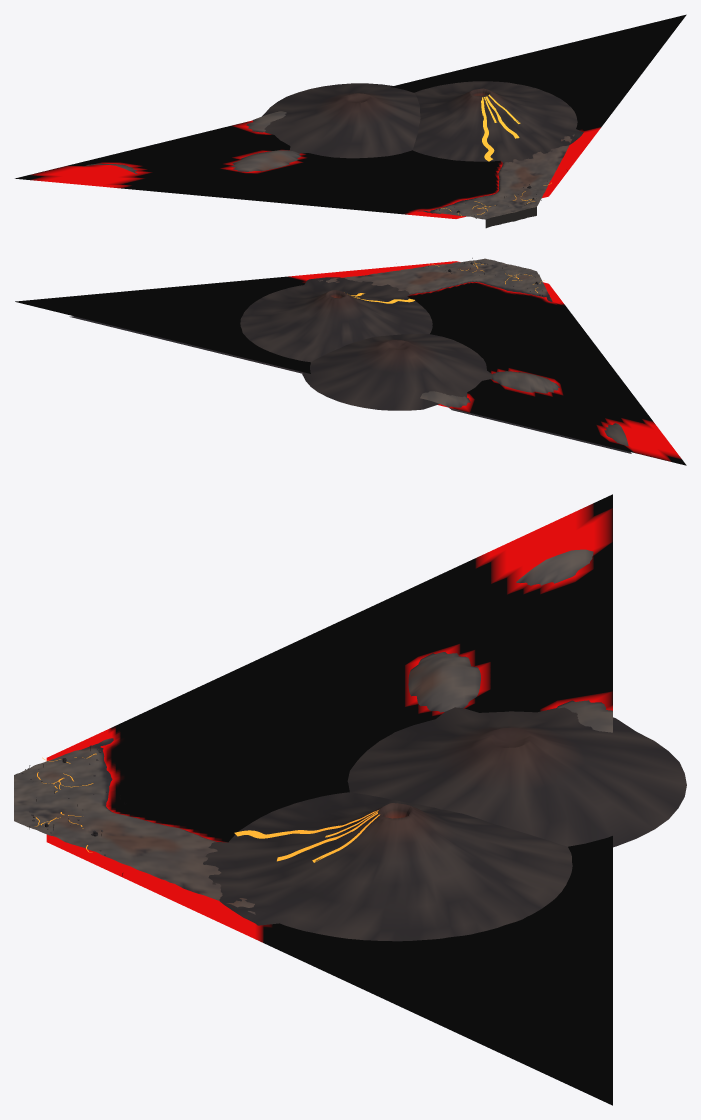
Rendered from backdrop_3.glb.
3 renders of one model, top to bottom at view 1: azimuth 30°, elevation 25°; view 2: azimuth 150°, elevation 25°; view 3: azimuth 270°, elevation 25°, orthographic. The views are drawn at different scales.
Parts seen in each view (by area): view 1: mid_sea, lm_volcano, mid_island, lm_lava, near_lip; view 2: mid_sea, lm_volcano, mid_island; view 3: mid_sea, lm_volcano, mid_island, lm_lava.
Part boxes in pixels (x1,y1,x2,y2): mid_sea: [15, 14, 686, 218]; lm_volcano: [262, 81, 583, 162]; mid_island: [83, 111, 574, 219]; lm_lava: [481, 94, 520, 161]; near_lip: [485, 207, 536, 228]; mid_sea: [15, 261, 686, 465]; lm_volcano: [240, 277, 492, 410]; mid_island: [69, 258, 631, 453]; mid_sea: [46, 494, 612, 1105]; lm_volcano: [203, 707, 686, 941]; mid_island: [14, 549, 612, 914]; lm_lava: [234, 810, 379, 862].
Size of the model in its own units: 2402 by 127 by 1117.
